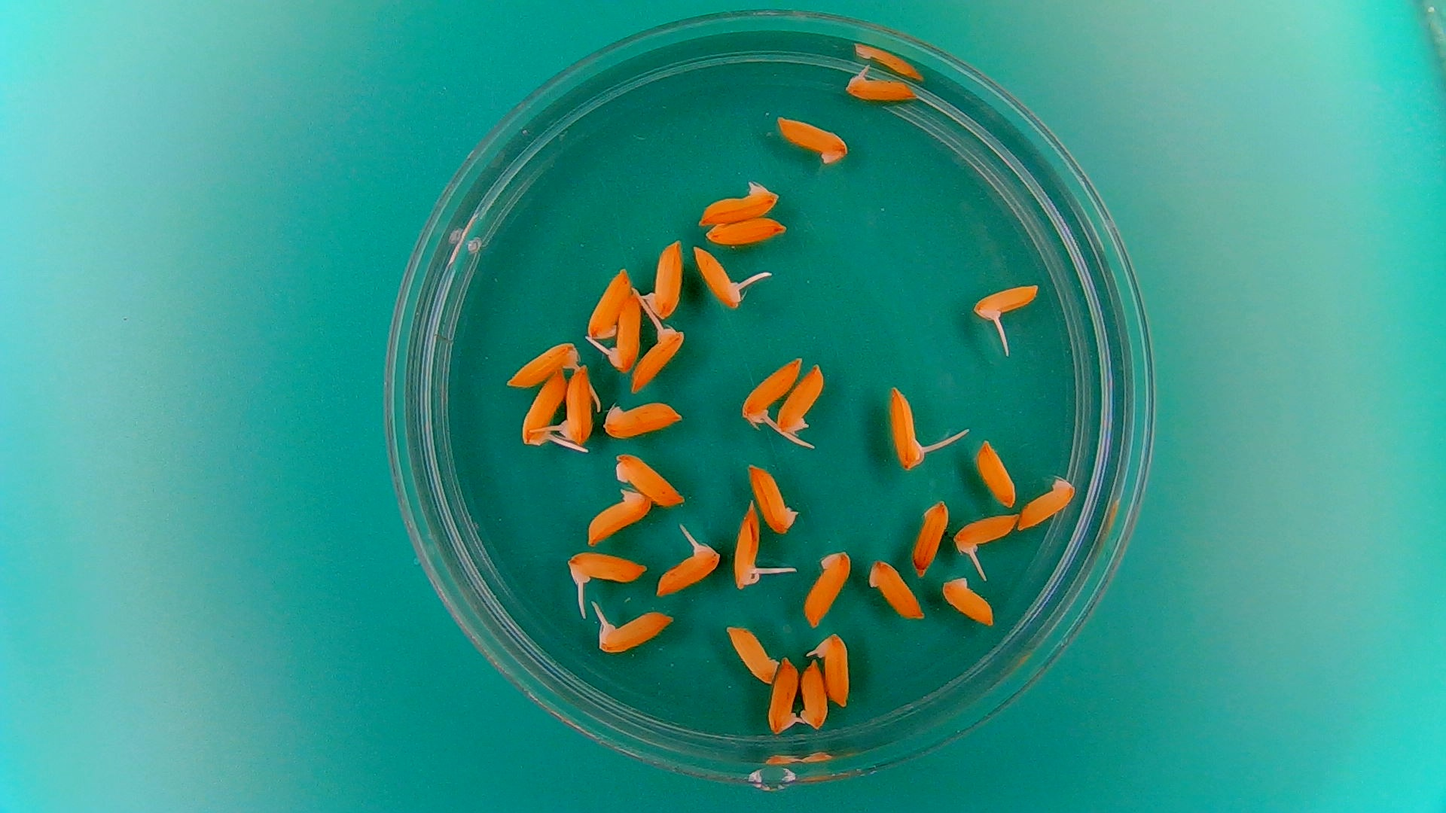no: (612, 449, 687, 509), (772, 112, 852, 167), (801, 547, 853, 630), (746, 460, 801, 537), (694, 178, 777, 228), (867, 556, 926, 623), (774, 364, 825, 438), (585, 263, 634, 340), (641, 237, 685, 321), (908, 496, 953, 577), (1017, 473, 1079, 531), (725, 622, 780, 685), (940, 574, 999, 629), (606, 397, 686, 437), (975, 436, 1019, 508), (703, 215, 788, 247), (797, 658, 828, 731)
yes: (521, 367, 570, 449), (744, 353, 799, 426), (504, 338, 582, 388), (587, 485, 653, 541), (629, 321, 679, 393), (690, 242, 744, 308), (592, 611, 676, 653), (658, 541, 719, 598), (812, 629, 853, 707), (886, 389, 923, 473), (953, 512, 1018, 558), (608, 295, 645, 372), (567, 551, 650, 585), (560, 363, 596, 441), (767, 655, 802, 735), (732, 498, 762, 590), (970, 284, 1042, 319), (841, 71, 917, 104)
